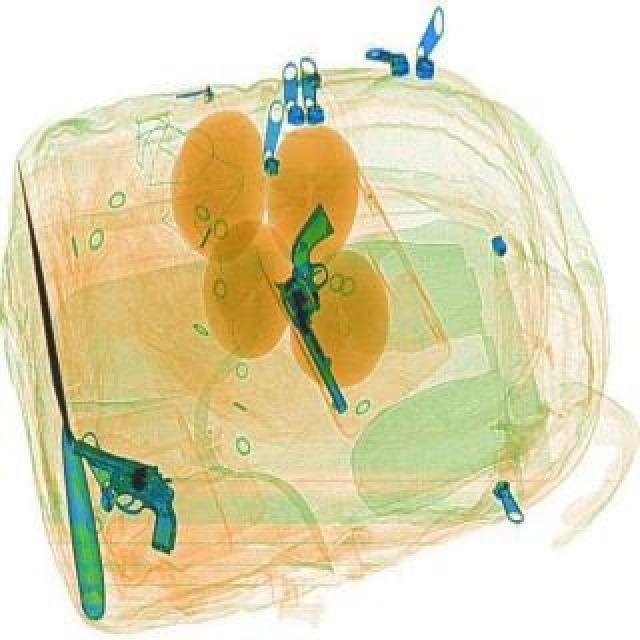gun: (244, 200, 408, 414), (46, 434, 202, 554)
knife: (8, 150, 108, 618)
